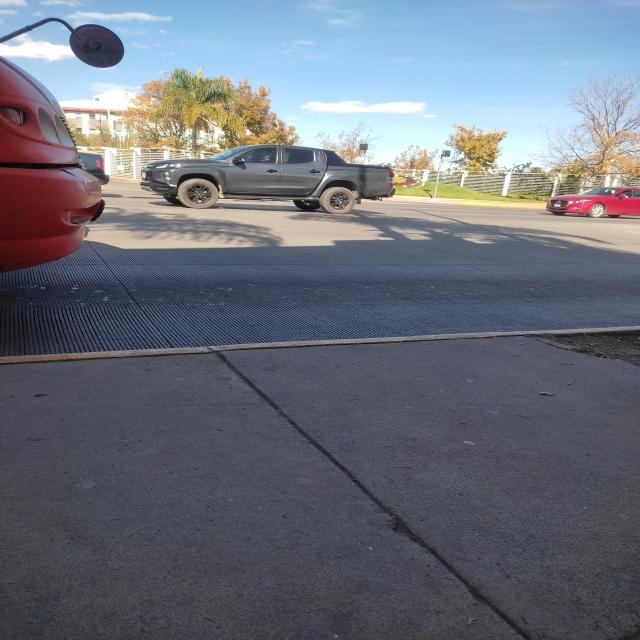Auto: (136, 120, 400, 231), (541, 177, 640, 219)
Autobus: (2, 0, 136, 275)
